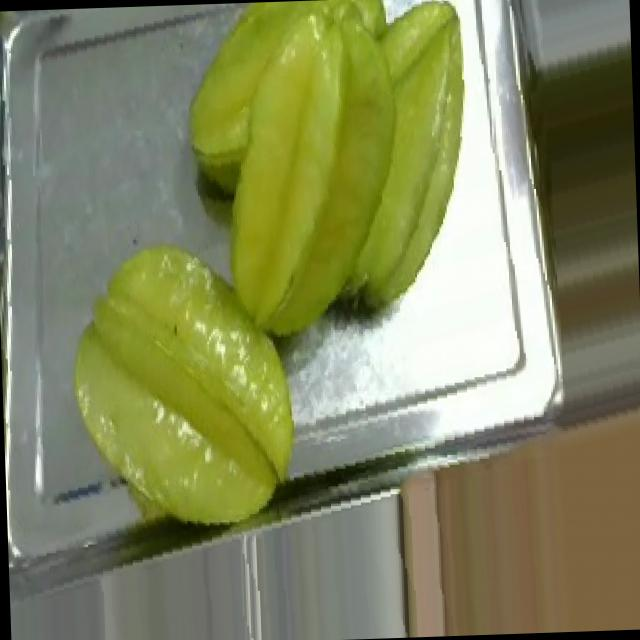fruit: (165, 0, 503, 357), (48, 216, 320, 553)
